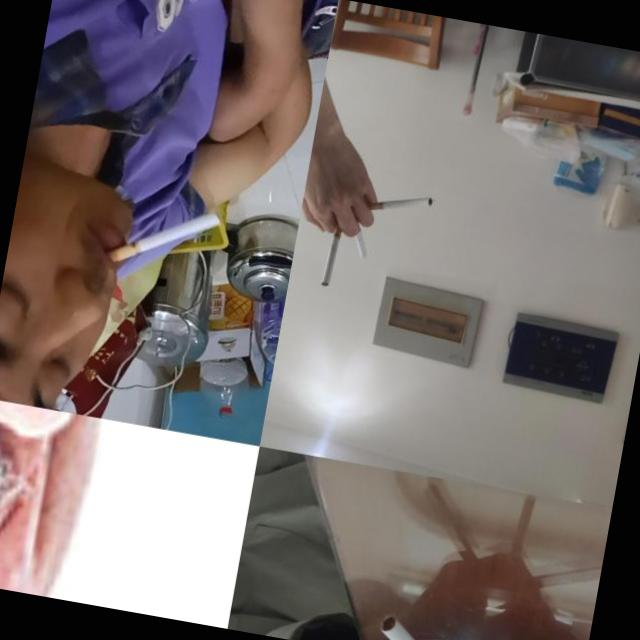cigarette: (105, 194, 220, 278), (372, 612, 480, 640), (366, 187, 433, 220), (319, 217, 345, 287), (344, 211, 374, 259)
